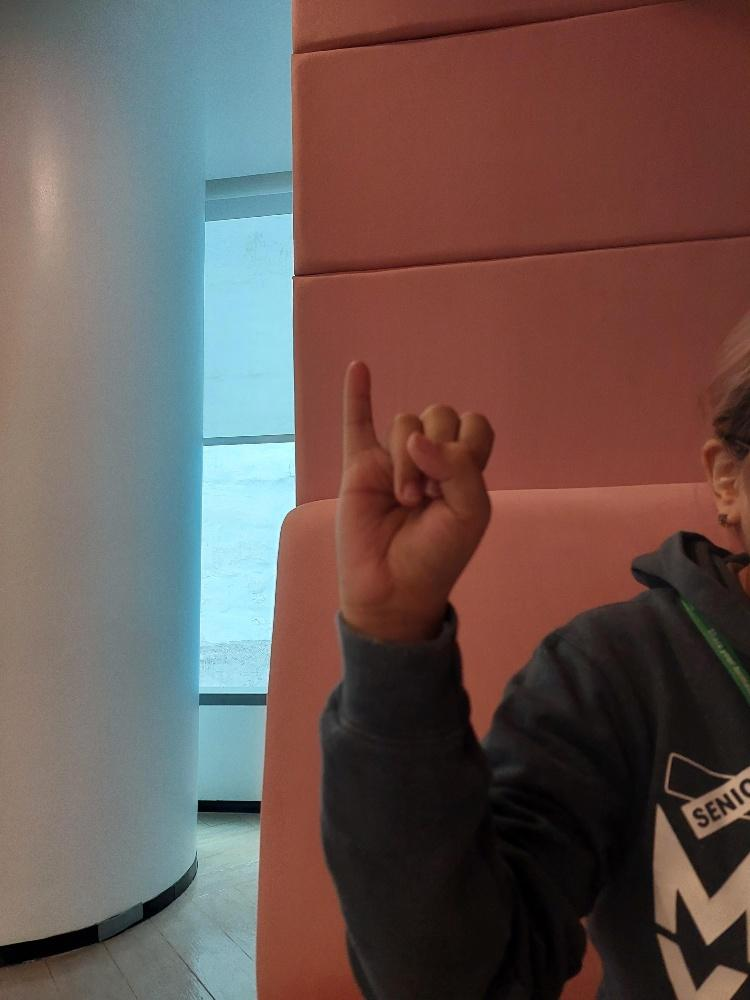i: (330, 352, 499, 644)
